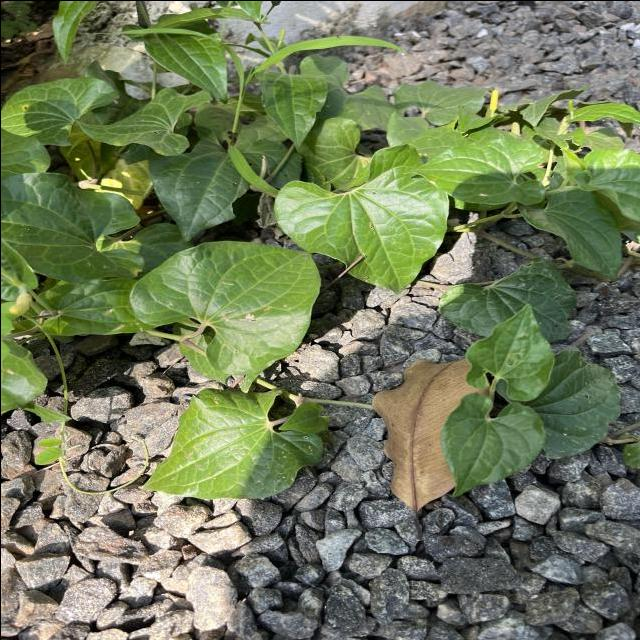Piper longum: (271, 140, 450, 294), (125, 238, 322, 376), (136, 386, 326, 499)
